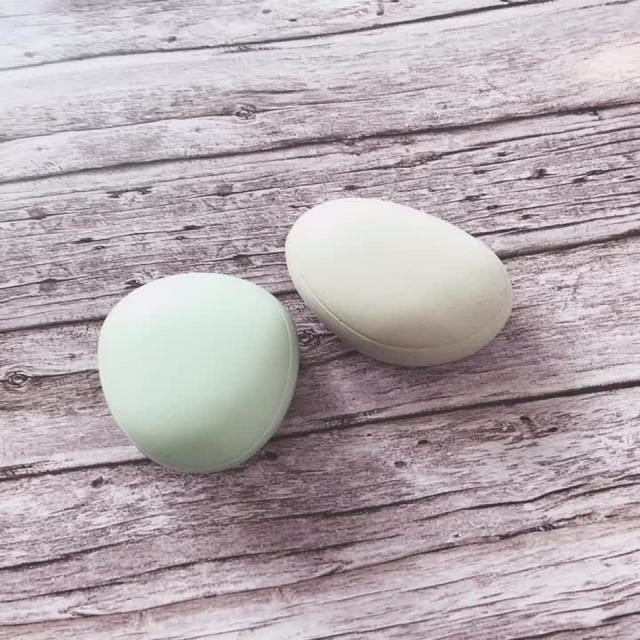egg: (96, 270, 300, 474), (285, 197, 515, 368)
